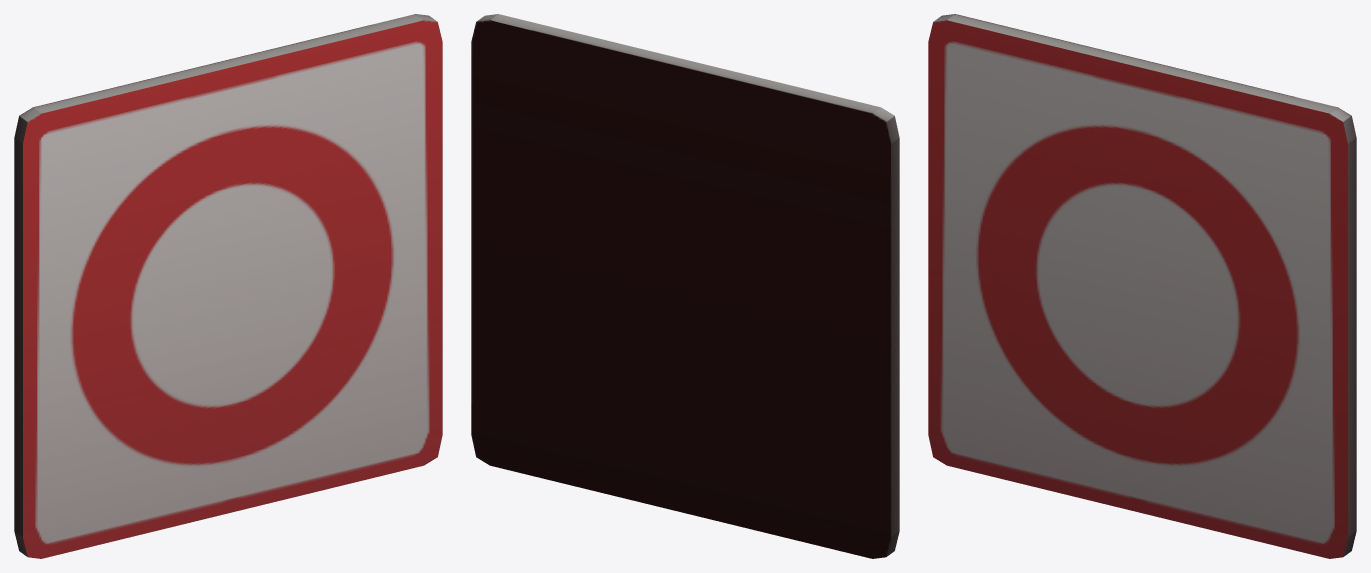
File: SM_Stop_Sign.FBX
3 views of the same model, side by side, from view 1: azimuth 30°, elevation 25°; view 2: azimuth 150°, elevation 25°; view 3: azimuth 330°, elevation 25° (orthographic).
Visible parts, largest first — view 1: SM_Stop_Sign; view 2: SM_Stop_Sign; view 3: SM_Stop_Sign.
Boxes of the visible parts, x1,y1,x2,y2 form: SM_Stop_Sign: (14, 14, 442, 558); SM_Stop_Sign: (471, 14, 899, 558); SM_Stop_Sign: (928, 14, 1356, 558).
Size of the model in its own units: 65.63 by 2.31 by 66.54.
